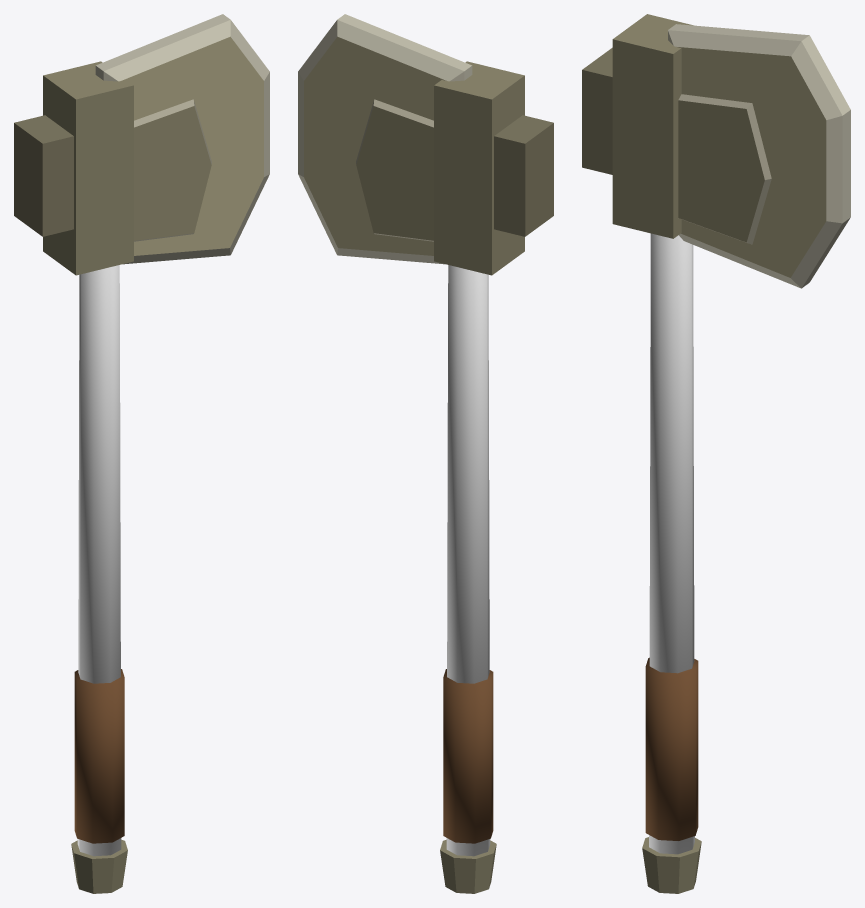
The model's file is tin_axe.glb.
3 views of the same model, side by side, from view 1: azimuth 30°, elevation 25°; view 2: azimuth 150°, elevation 25°; view 3: azimuth 330°, elevation 25° (orthographic). The views are drawn at different scales.
Parts seen in each view (by area): view 1: tin_axe_v0; view 2: tin_axe_v0; view 3: tin_axe_v0.
Boxes of the visible parts, <box> form: tin_axe_v0: <box>14,14,269,893</box>; tin_axe_v0: <box>298,14,553,893</box>; tin_axe_v0: <box>582,14,850,893</box>.
Size of the model in its own units: 0.267 by 0.898 by 0.064.
